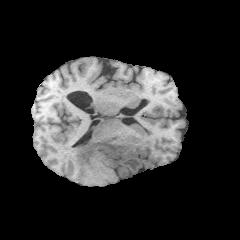glioma: (71, 134, 139, 170)
